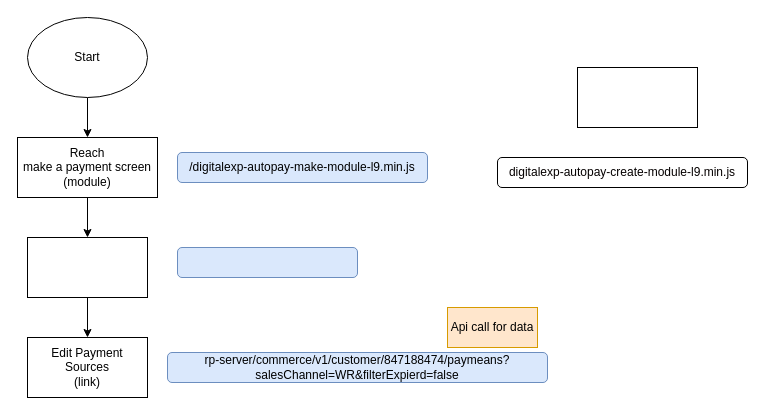
Image size: 765x415. Some labels were removed from this diagram. The centre of each missing label's shape, as x and y in pixels:
AutopayMake.LayoutView.js: point 267,262
Edit auto pay: point 637,97
edit payment sources (page): point 87,267
